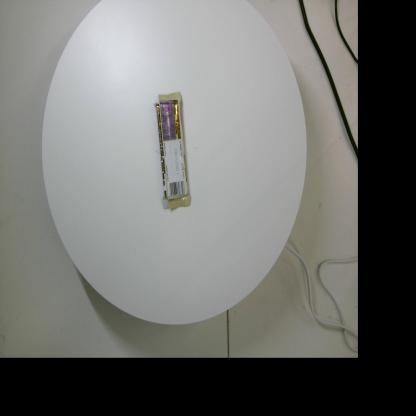Chocolate: (154, 92, 190, 210)
